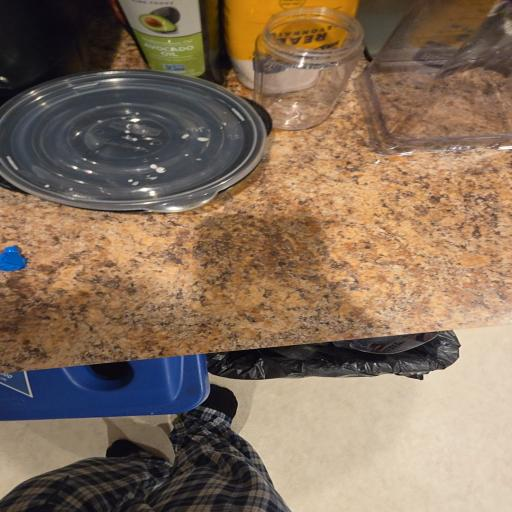Blue: (0, 246, 26, 271)
